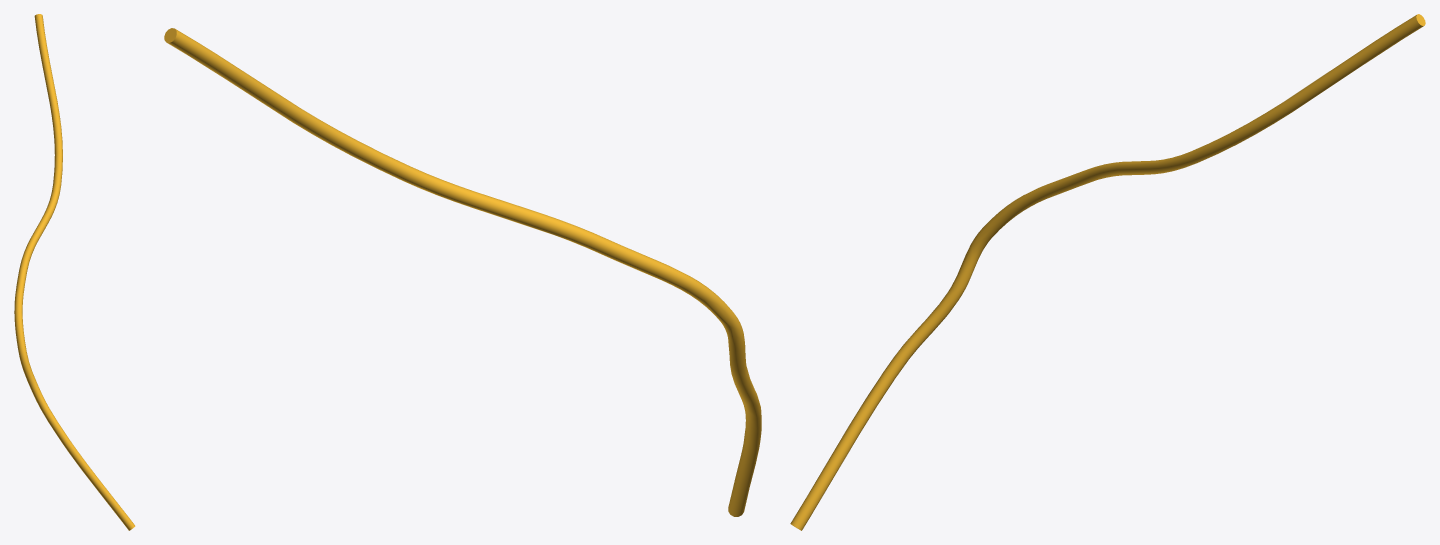
File: nervoso-chorda-tympani-l.glb
3 renders of one model, left to right at view 1: azimuth 30°, elevation 25°; view 2: azimuth 150°, elevation 25°; view 3: azimuth 270°, elevation 25°, orthographic. The views are drawn at different scales.
Visible parts, largest first — view 1: Chorda tympani.l; view 2: Chorda tympani.l; view 3: Chorda tympani.l.
Boxes of the visible parts, x1,y1,x2,y2 form: Chorda tympani.l: [14, 14, 135, 530]; Chorda tympani.l: [164, 28, 761, 516]; Chorda tympani.l: [790, 14, 1425, 530].
Size of the model in its own units: 0.0109 by 0.024 by 0.0234.
